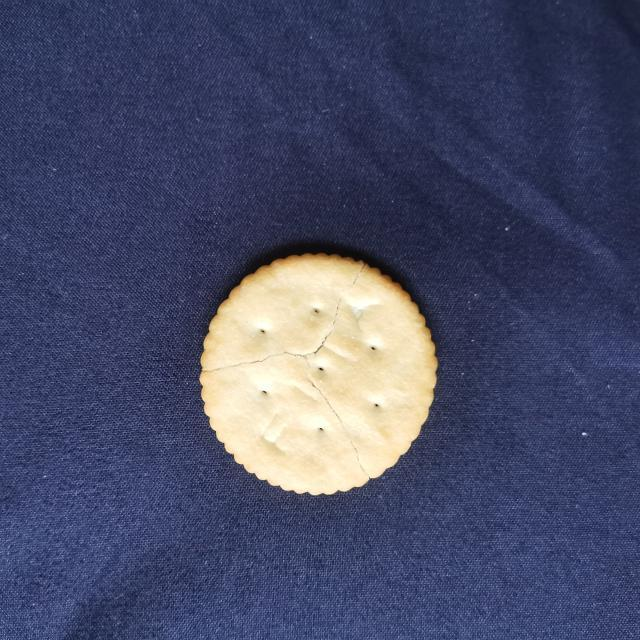Fracture: (200, 258, 391, 483)
